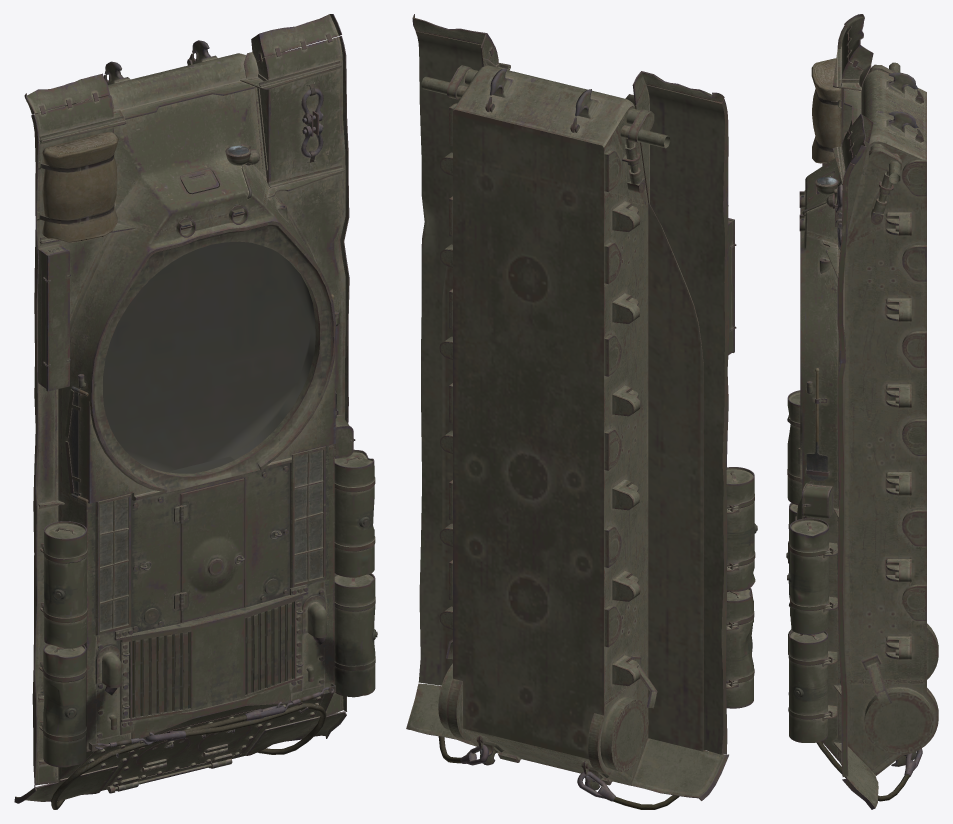
The model's file is Hull.glb.
3 renders of one model, left to right at view 1: azimuth 30°, elevation 25°; view 2: azimuth 150°, elevation 25°; view 3: azimuth 270°, elevation 25°, orthographic. The views are drawn at different scales.
Visible parts, largest first — view 1: set_0_group_0; view 2: set_0_group_0; view 3: set_0_group_0.
Boxes of the visible parts, x1,y1,x2,y2 form: set_0_group_0: (14, 14, 377, 809); set_0_group_0: (406, 14, 757, 809); set_0_group_0: (786, 14, 938, 809).
Bounding box in the file's own units: 3.16 × 6.83 × 1.4.
1 material, 1 textured.
